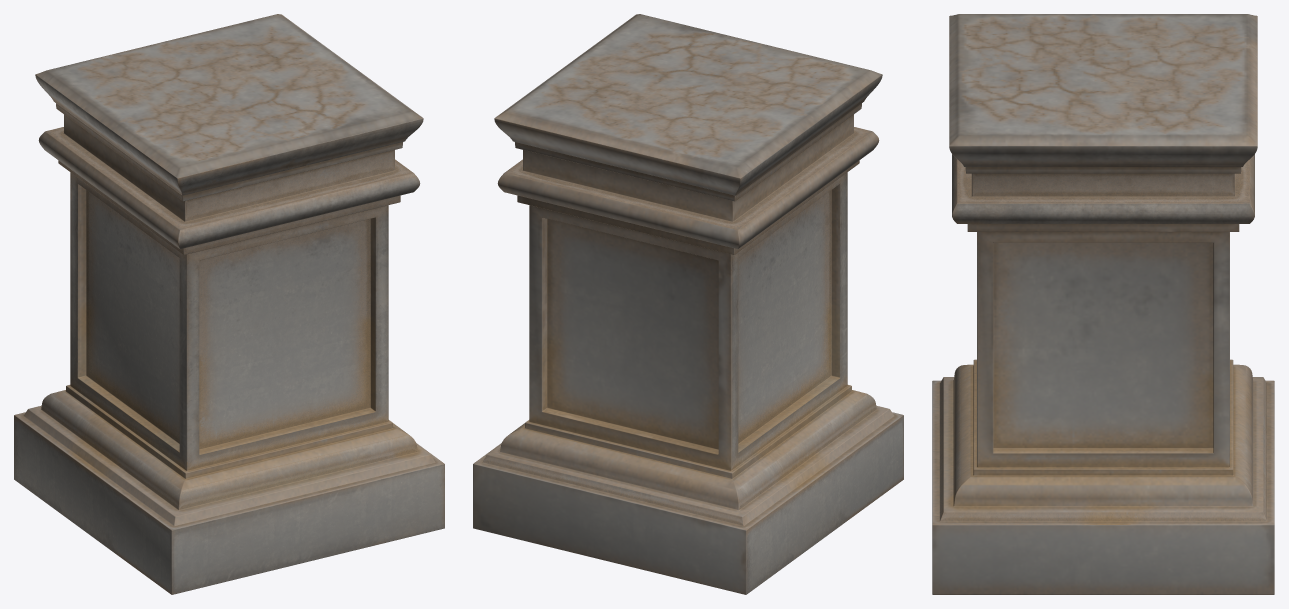
The model's file is pedestal.glb.
3 renders of one model, left to right at view 1: azimuth 30°, elevation 25°; view 2: azimuth 150°, elevation 25°; view 3: azimuth 270°, elevation 25°, orthographic. The views are drawn at different scales.
Visible parts, largest first — view 1: Pedestal; view 2: Pedestal; view 3: Pedestal.
Boxes of the visible parts, bbox=[...] form: Pedestal: bbox=[14, 14, 444, 594]; Pedestal: bbox=[473, 14, 903, 594]; Pedestal: bbox=[932, 14, 1274, 594].
Bounding box in the file's own units: 0.8426 × 1.22 × 0.8426.
Materials: 1 (1 with a texture image).
